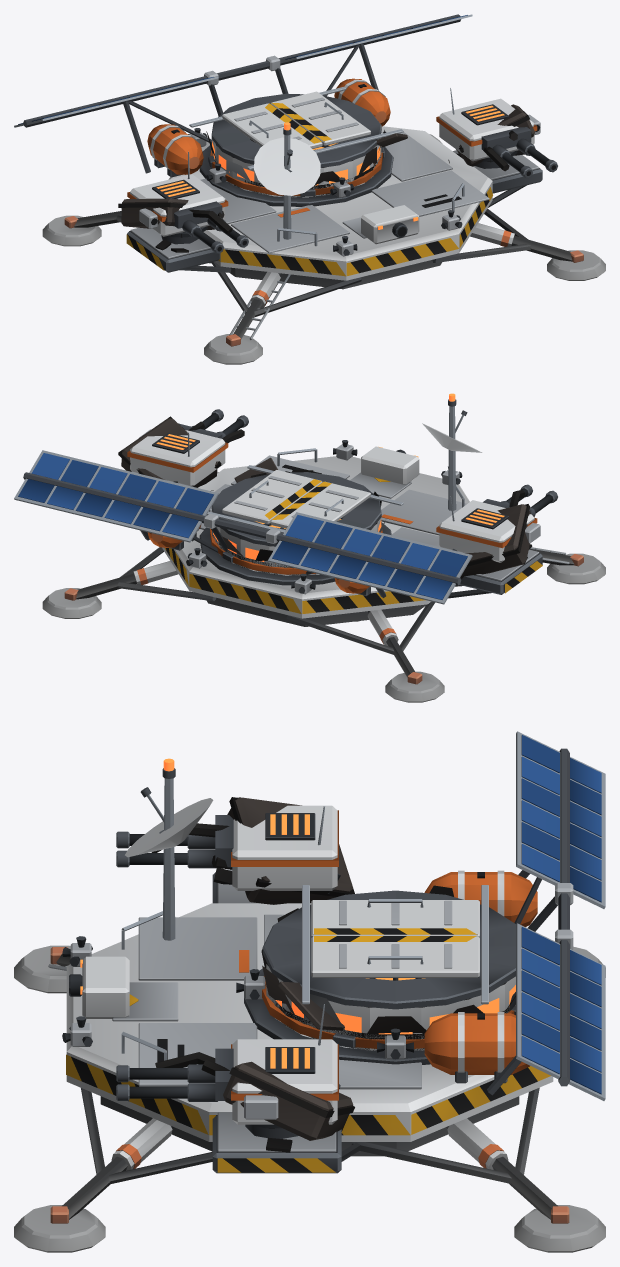
File: warden-v2.glb
3 views of the same model, one above another, from view 1: azimuth 30°, elevation 25°; view 2: azimuth 150°, elevation 25°; view 3: azimuth 270°, elevation 25° (orthographic). The views are drawn at different scales.
Parts seen in each view (by area): view 1: warden_hull, warden_core, warden_pod_right, warden_pod_left, warden_core_hatch_1, warden_core_hatch_0, warden_pod_left_wreck, warden_core_wreck, warden_pod_right_wreck; view 2: warden_hull, warden_core, warden_pod_right, warden_pod_left, warden_core_hatch_1, warden_core_hatch_0, warden_pod_left_wreck, warden_pod_right_wreck, warden_core_wreck; view 3: warden_hull, warden_core, warden_pod_left, warden_pod_right, warden_core_hatch_1, warden_core_hatch_0, warden_pod_right_wreck, warden_core_wreck, warden_pod_left_wreck.
Part boxes in pixels (x1,y1,x2,y2): warden_hull: [14, 14, 605, 364]; warden_core: [189, 87, 403, 197]; warden_pod_right: [436, 88, 557, 178]; warden_pod_left: [127, 151, 248, 253]; warden_core_hatch_1: [271, 91, 370, 145]; warden_core_hatch_0: [222, 103, 322, 148]; warden_pod_left_wreck: [118, 198, 232, 252]; warden_core_wreck: [206, 130, 407, 196]; warden_pod_right_wreck: [448, 104, 534, 171]; warden_hull: [14, 393, 605, 702]; warden_core: [206, 465, 403, 575]; warden_pod_right: [127, 409, 248, 486]; warden_pod_left: [436, 484, 557, 562]; warden_core_hatch_1: [222, 470, 322, 524]; warden_core_hatch_0: [270, 481, 370, 528]; warden_pod_left_wreck: [460, 490, 532, 578]; warden_pod_right_wreck: [118, 416, 244, 490]; warden_core_wreck: [212, 457, 385, 574]; warden_hull: [14, 731, 605, 1252]; warden_core: [236, 885, 516, 1059]; warden_pod_left: [116, 805, 340, 893]; warden_pod_right: [116, 1004, 340, 1138]; warden_core_hatch_1: [311, 936, 479, 977]; warden_core_hatch_0: [311, 899, 479, 937]; warden_pod_right_wreck: [155, 1052, 354, 1152]; warden_core_wreck: [261, 885, 515, 1050]; warden_pod_left_wreck: [151, 797, 354, 904].
Size of the model in its own units: 5.9 by 2.36 by 4.5.
